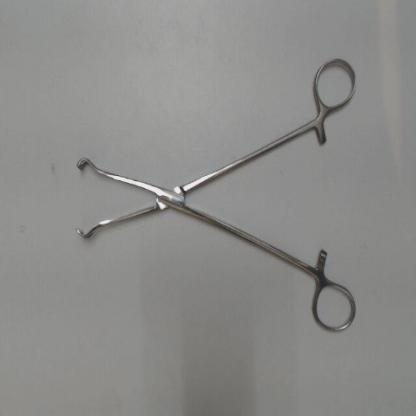8 Babcock Tissue Forceps: (73, 52, 363, 343)
